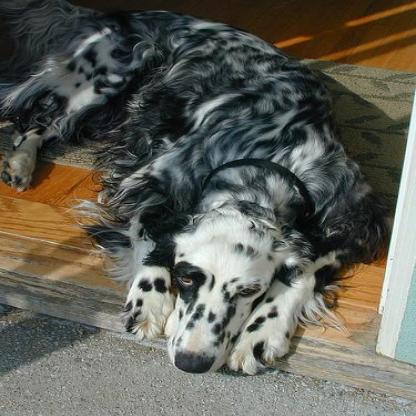English_setter: (0, 0, 384, 376)
